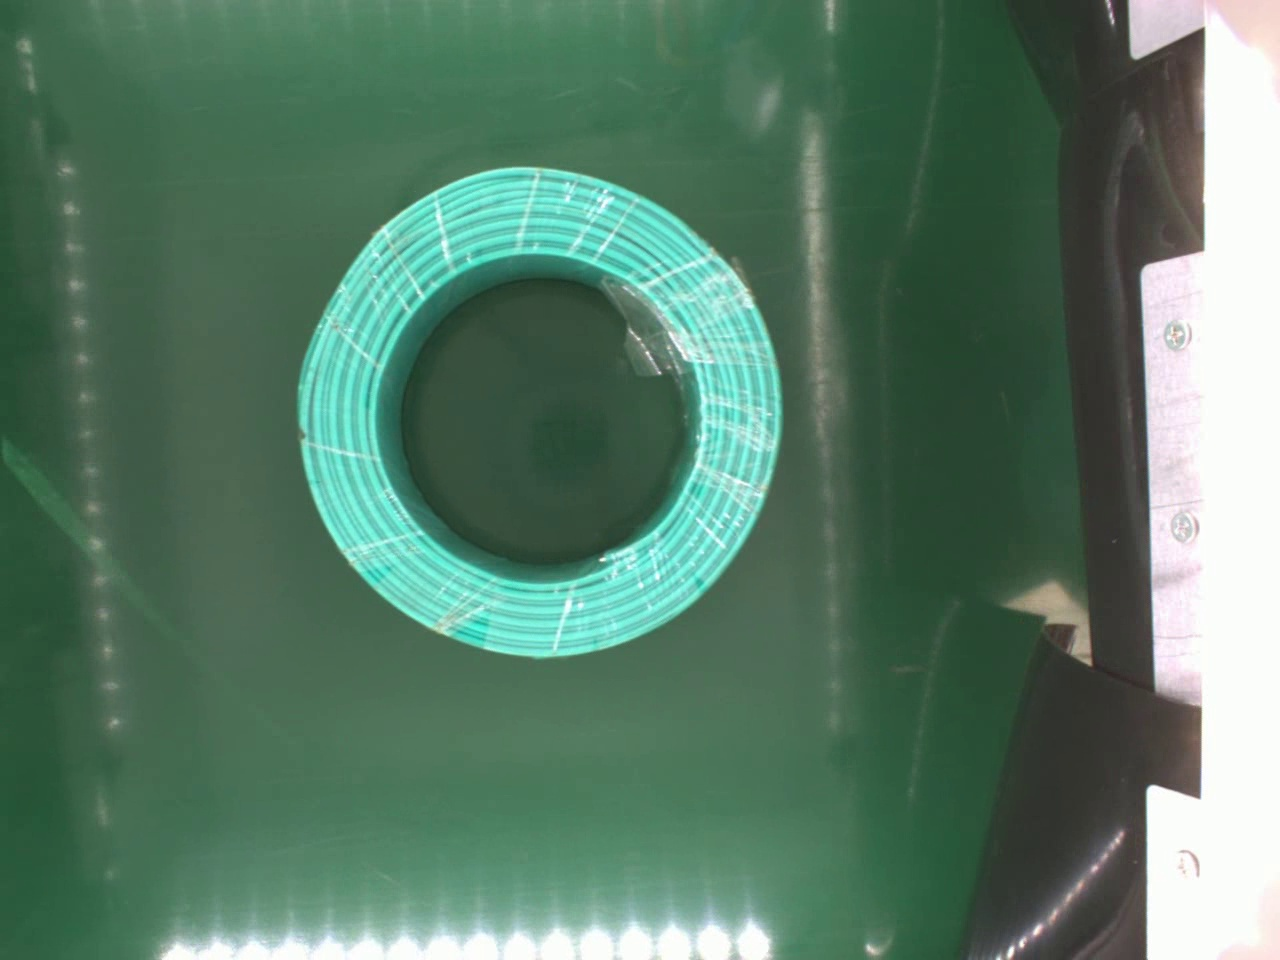green: (292, 158, 782, 665)
